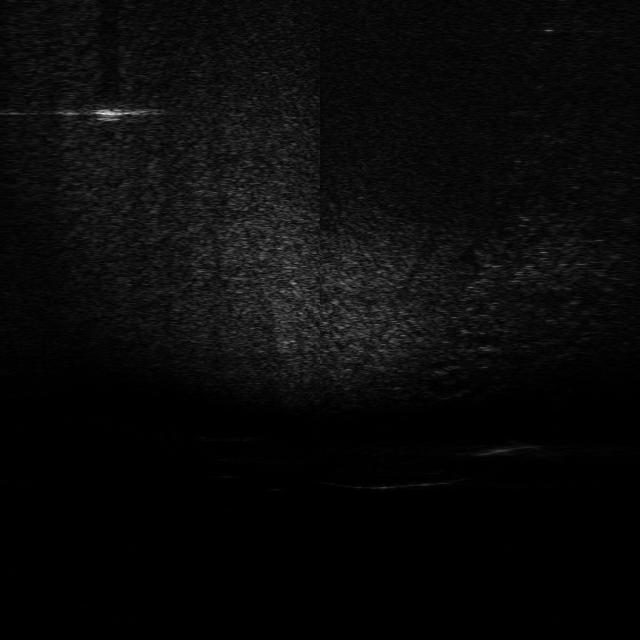cube: (92, 99, 132, 124)
